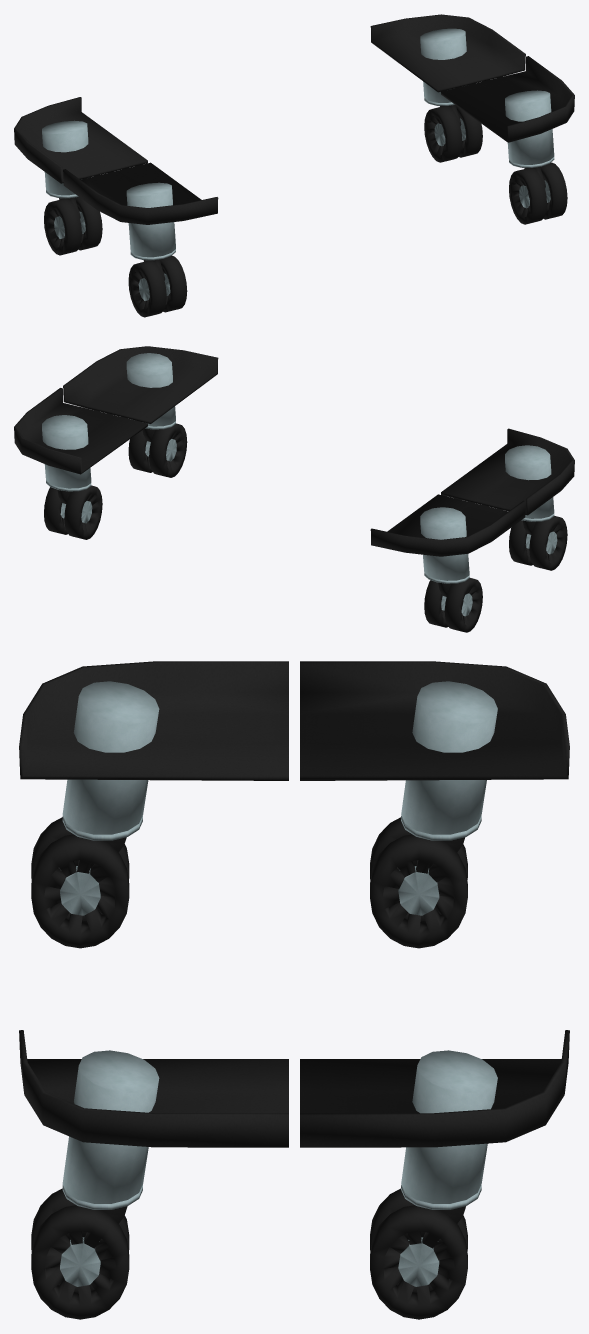
The model's file is mala_rodas_TEXTURIZADA.fbx.
3 views of the same model, one above another, from view 1: azimuth 30°, elevation 25°; view 2: azimuth 150°, elevation 25°; view 3: azimuth 270°, elevation 25° (orthographic). The views are drawn at different scales.
Parts seen in each view (by area): view 1: mala.001; view 2: mala.001; view 3: mala.001.
Part boxes in pixels (x1,y1,x2,y2): mala.001: (14, 14, 574, 317); mala.001: (14, 346, 574, 632); mala.001: (19, 661, 569, 1319).
Size of the model in its own units: 52.73 by 12.8 by 27.02.
1 material, 1 textured.
